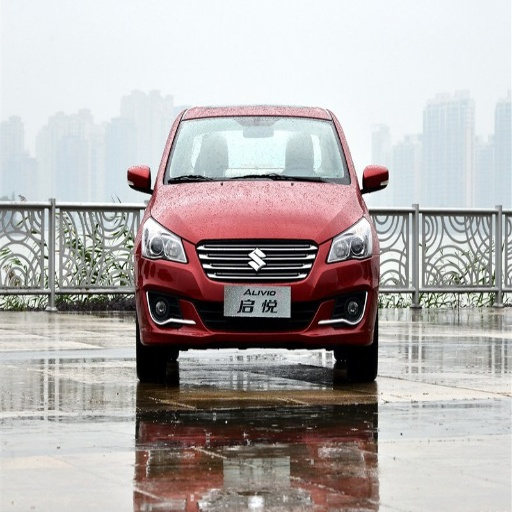front_bumper: (139, 239, 374, 348)
front_right_light: (140, 220, 187, 263)
hood: (150, 180, 363, 241)
